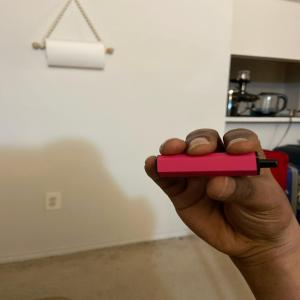Blume-E-Ciggirate: (152, 147, 280, 181)
